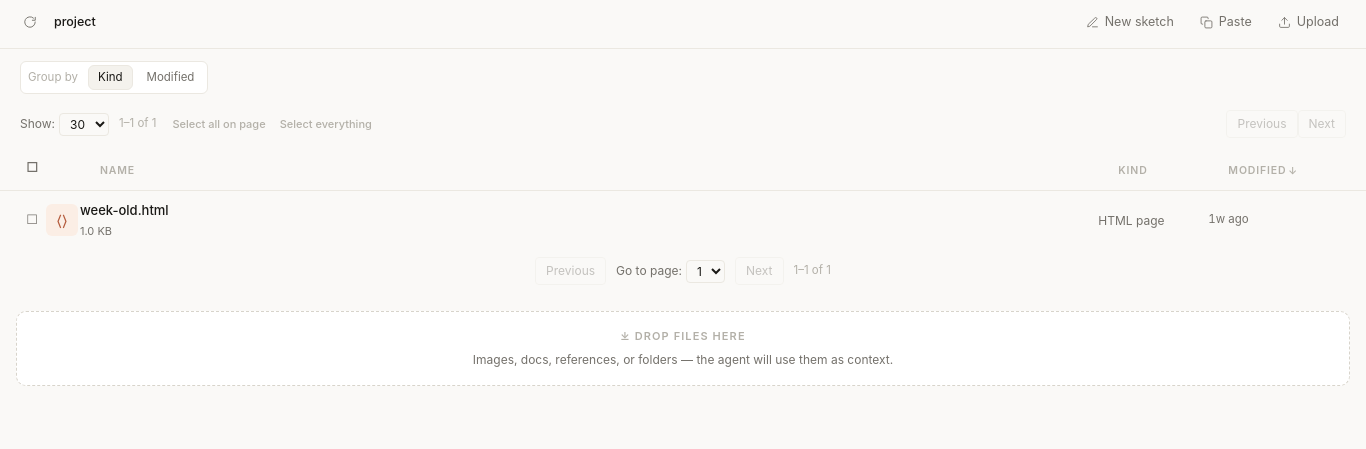
DesignFilesPanel grouping › keeps files from seven calendar days ago in the previous 7 days group
Click the button "Modified".
click(170, 77)  # box x1=136 y1=65 x2=204 y2=90
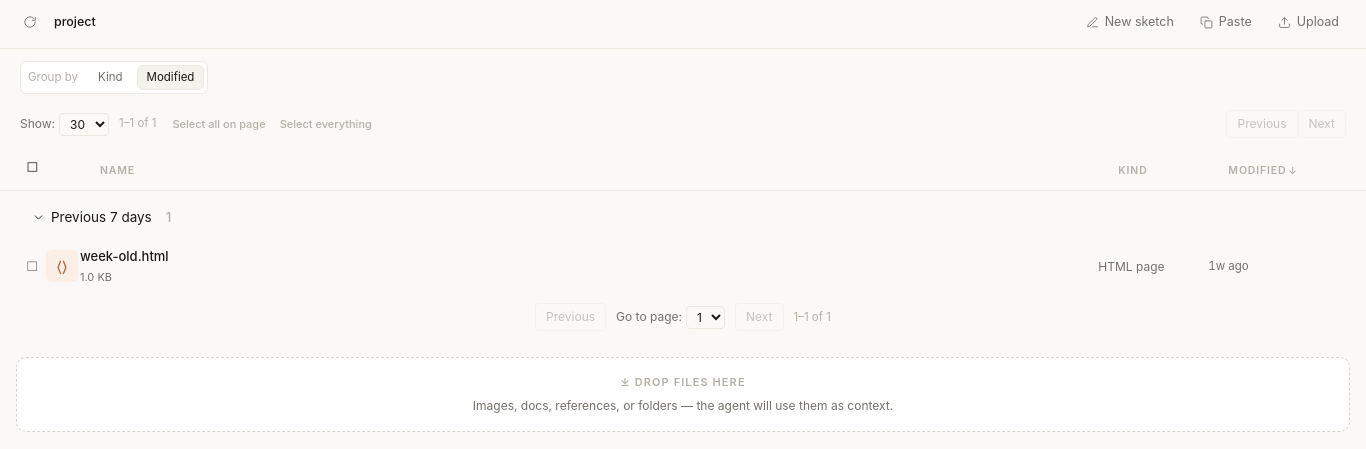
Expected: the row with test id "design-file-row-week-old.html" is shown, x1=0 y1=237 x2=1365 y2=295
Now the text "Previous 7 days" is shown, box x1=51 y1=207 x2=152 y2=227
